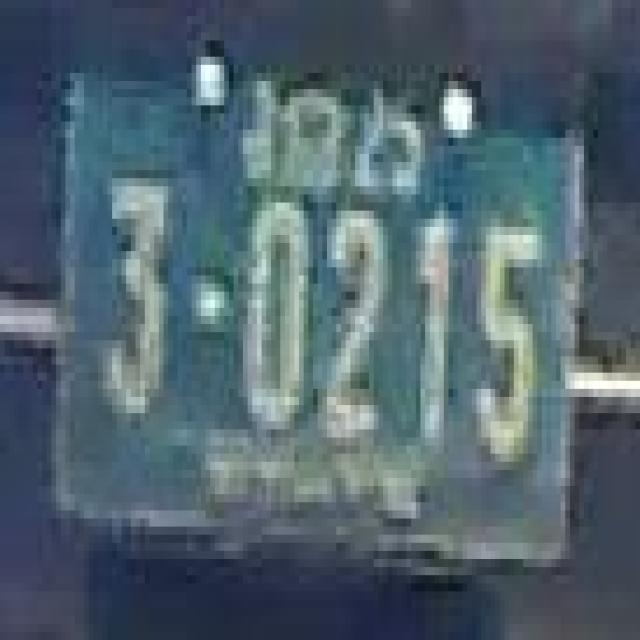State: (248, 73, 344, 188)
